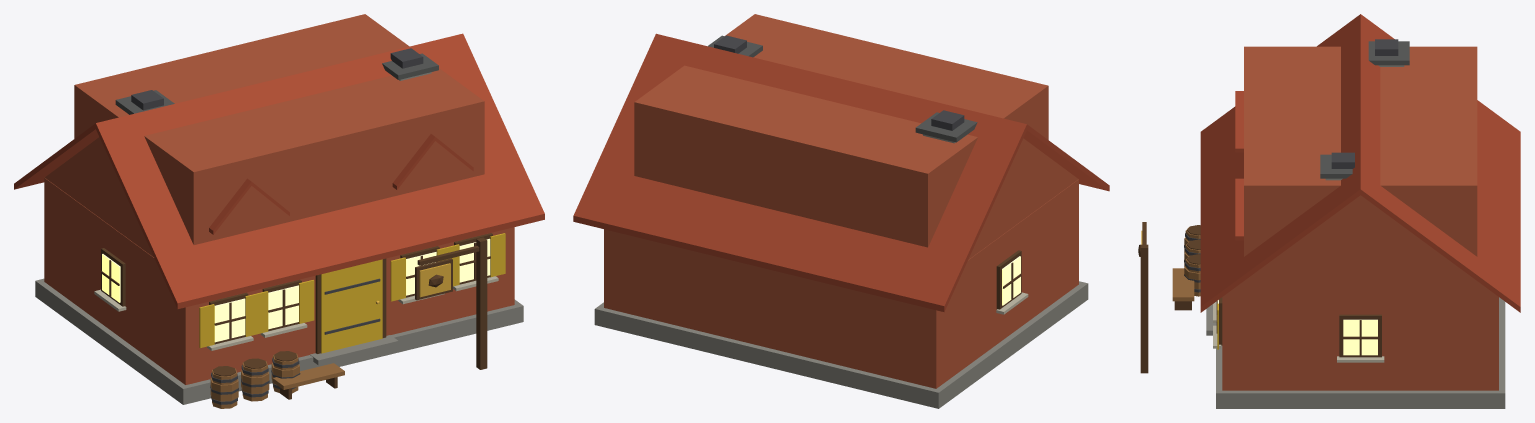
File: inn_golden_perch.glb
3 views of the same model, side by side, from view 1: azimuth 30°, elevation 25°; view 2: azimuth 150°, elevation 25°; view 3: azimuth 270°, elevation 25° (orthographic). The views are drawn at different scales.
Visible parts, largest first — view 1: inn_golden_perch; view 2: inn_golden_perch; view 3: inn_golden_perch.
Part boxes in pixels (<box>): inn_golden_perch: <box>14,14,544,408</box>; inn_golden_perch: <box>573,14,1109,408</box>; inn_golden_perch: <box>1138,14,1520,408</box>.
Size of what is drawn, in the model's own units: 9.6 by 5.79 by 8.84.
